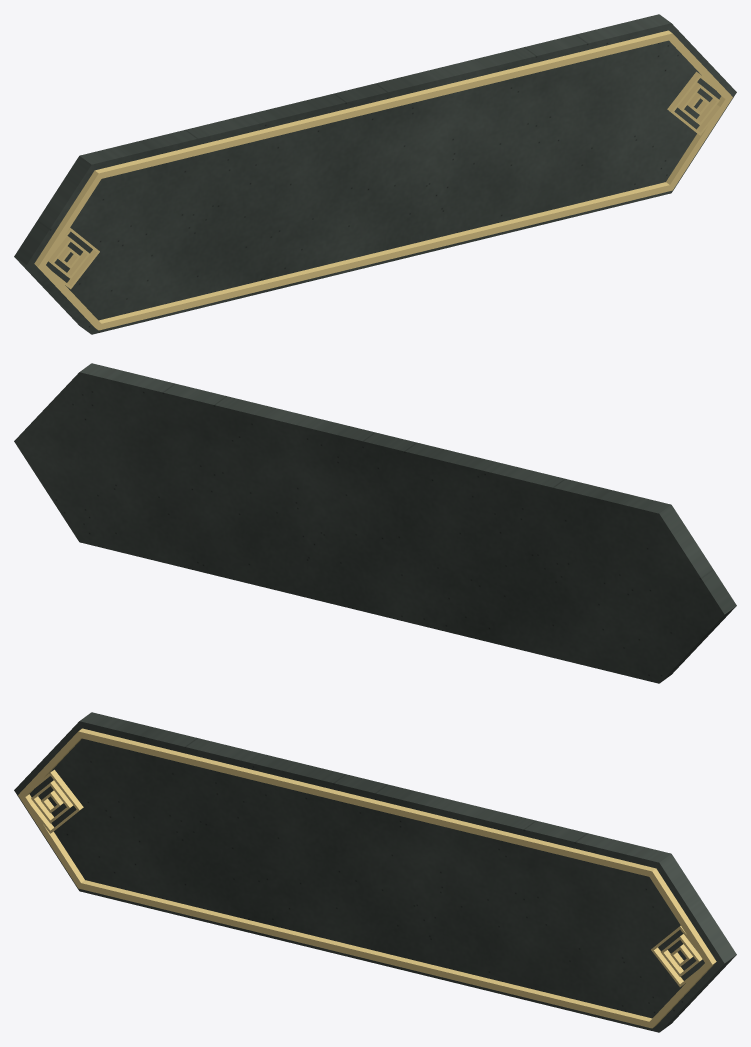
File: Placa_base_vacia.fbx
3 views of the same model, one above another, from view 1: azimuth 30°, elevation 25°; view 2: azimuth 150°, elevation 25°; view 3: azimuth 330°, elevation 25° (orthographic).
Parts seen in each view (by area): view 1: Placa_Piedra, Marco_Dorado, Rombos_Dorados; view 2: Placa_Piedra; view 3: Placa_Piedra, Marco_Dorado, Rombos_Dorados.
Part boxes in pixels (x1,y1,x2,y2): Placa_Piedra: (14, 14, 736, 334); Marco_Dorado: (34, 30, 732, 330); Rombos_Dorados: (43, 71, 719, 289); Placa_Piedra: (14, 363, 736, 683); Placa_Piedra: (14, 712, 736, 1032); Marco_Dorado: (18, 728, 716, 1028); Rombos_Dorados: (31, 769, 708, 987).
Bounding box in the file's own units: 0.4 × 0.0915 × 0.016.
Materials: 2 (1 with a texture image).
